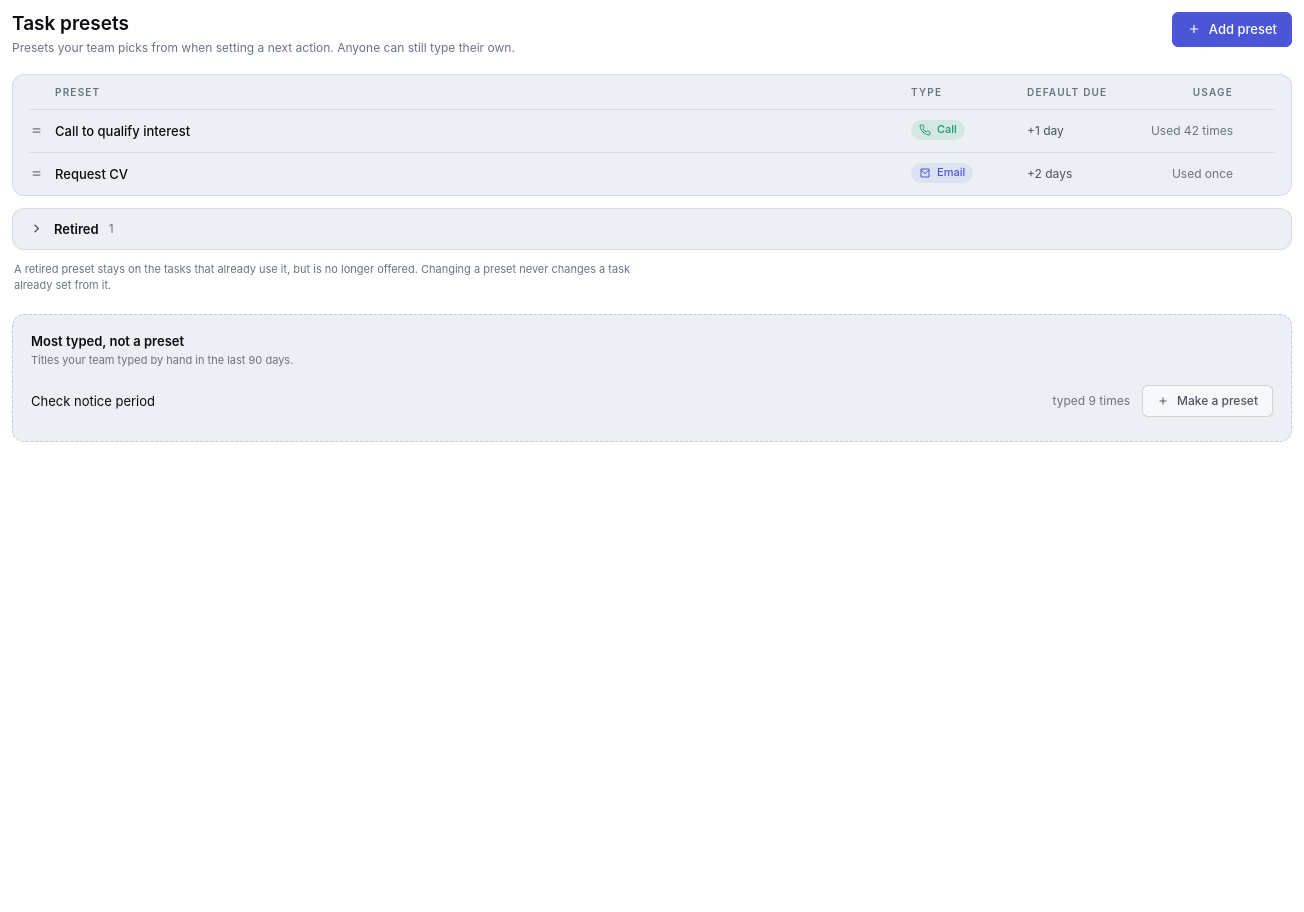
SettingsTaskPresetsPage › adds a preset for the whole team
Expected: the list item "Request CV" is shown, [29,163,1275,185]
Click the button "Add preset" at (1232, 29), box [1172,12,1292,47]
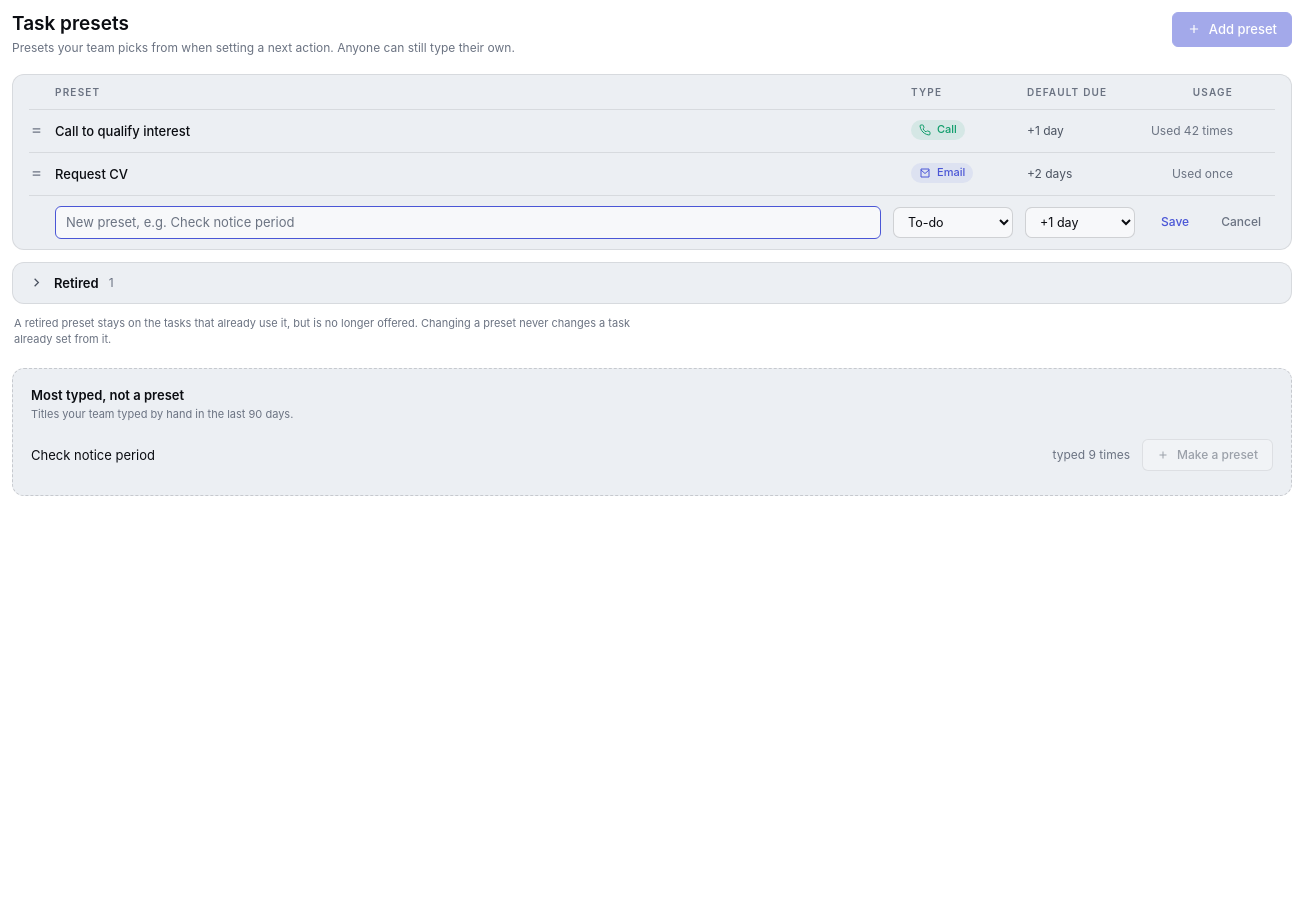
Type "Reference check" into the field named "Preset name" at (468, 222), box [55,206,881,239]
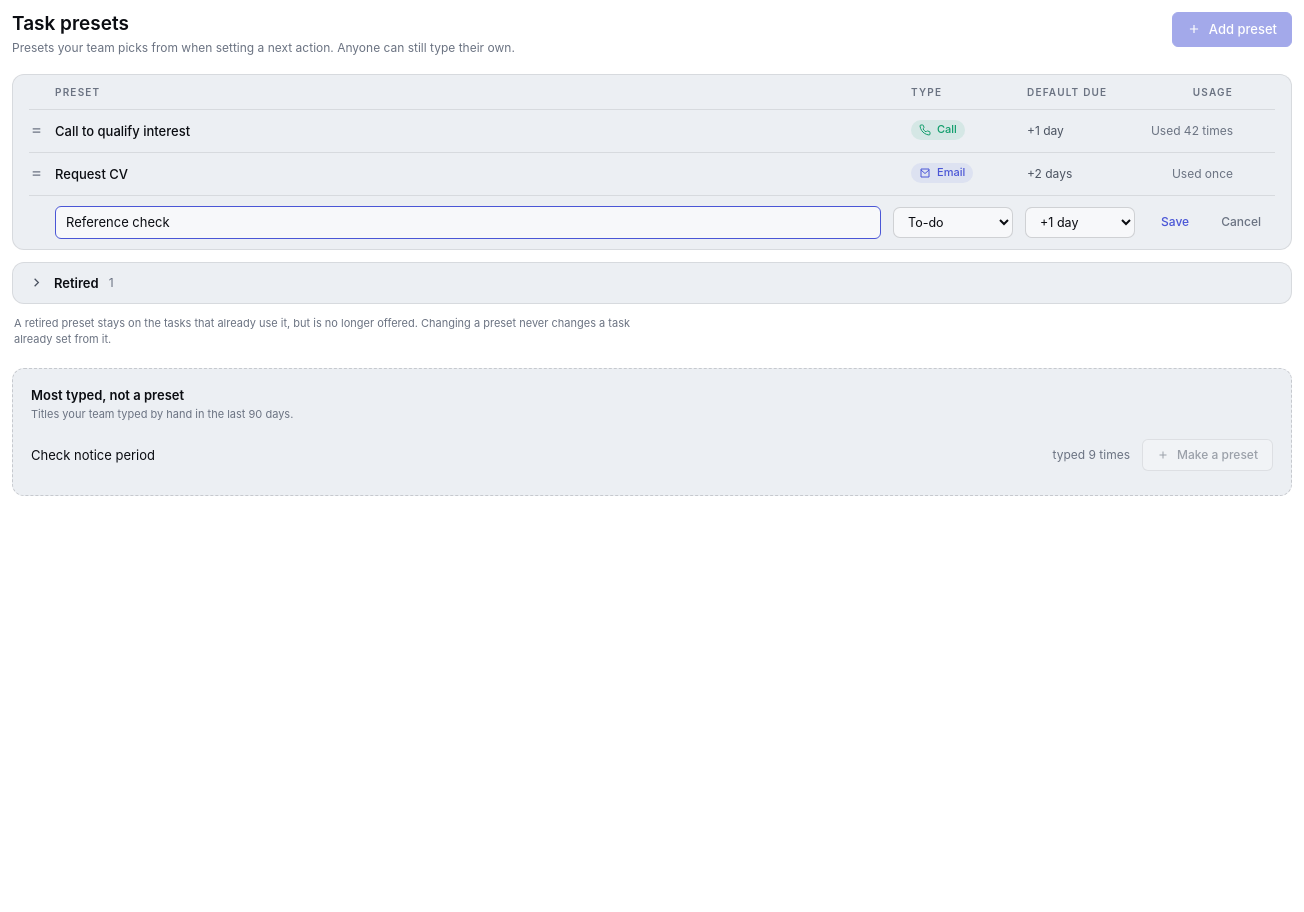
Select "To-do" in the dropdown named "Type" at (953, 222), box [893,207,1013,238]
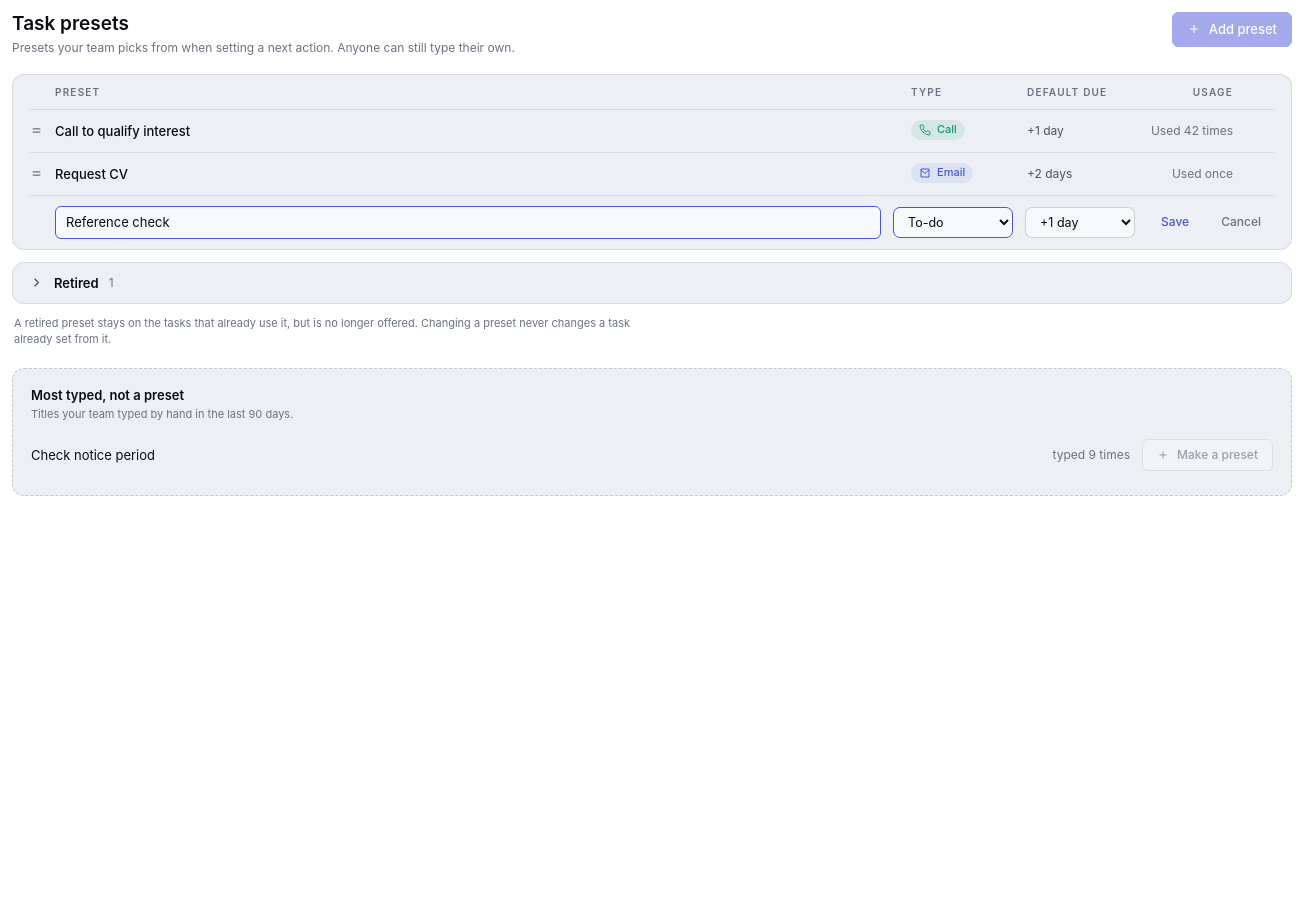
Select "+5 days" in the dropdown named "Default due" at (1080, 222), box [1025,207,1135,238]
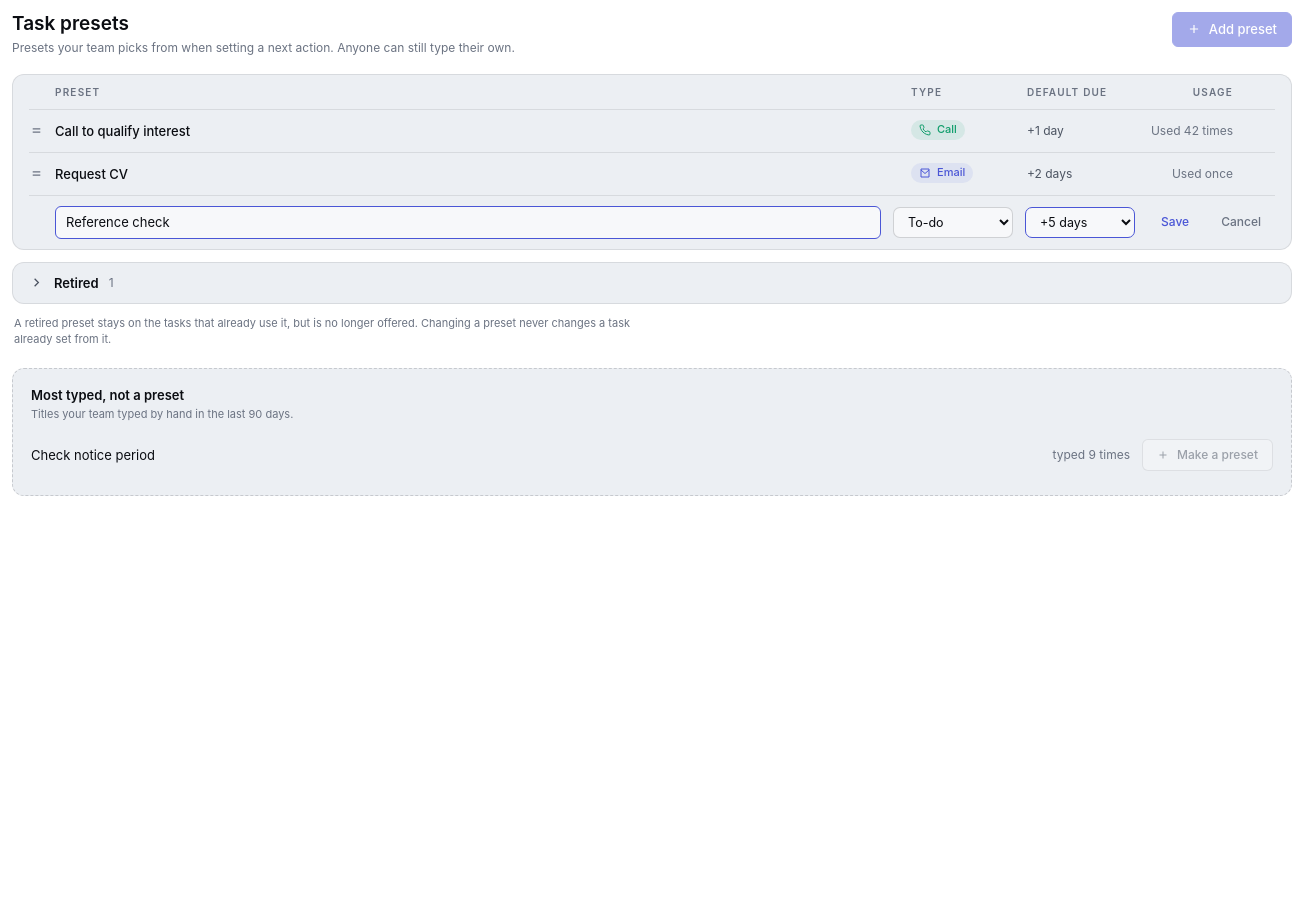
Click the button "Save" at (1175, 222), box [1147,207,1203,237]
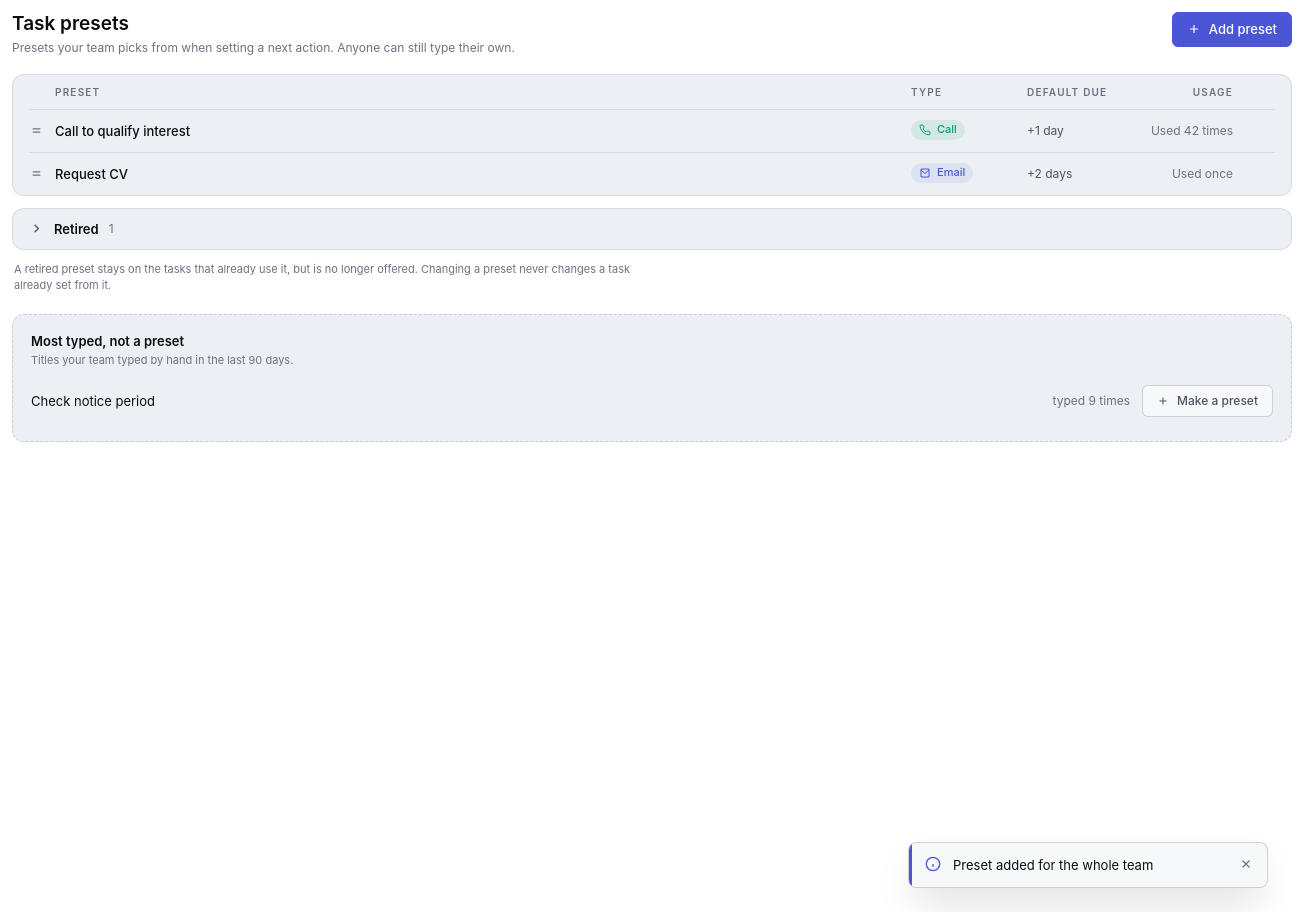
Result: the text "Preset added for the whole team" is shown at [953,857,1153,873]
